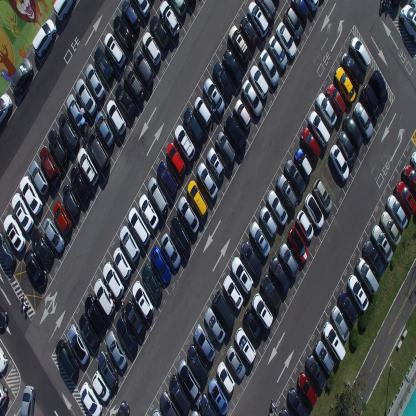car: (86, 127, 110, 173), (55, 338, 79, 380), (177, 358, 201, 400), (322, 320, 346, 362), (31, 18, 56, 58), (76, 146, 100, 187), (19, 175, 43, 216), (24, 248, 48, 289), (355, 255, 379, 296), (169, 214, 192, 256), (67, 323, 90, 365), (3, 212, 26, 254), (128, 206, 151, 247), (11, 192, 34, 233), (30, 227, 54, 266), (116, 314, 138, 356), (228, 24, 250, 66), (212, 290, 235, 330), (231, 255, 254, 295), (193, 322, 216, 362), (158, 0, 181, 40), (224, 114, 246, 155), (177, 195, 199, 236), (132, 279, 154, 320), (84, 293, 106, 334), (106, 329, 128, 370), (212, 59, 234, 100), (10, 57, 34, 94), (261, 272, 282, 314), (94, 277, 116, 317), (78, 312, 100, 352), (252, 291, 274, 331), (75, 77, 97, 117), (102, 260, 124, 300), (97, 348, 119, 388), (371, 222, 393, 262), (41, 217, 66, 252), (240, 240, 263, 278), (221, 48, 244, 86), (187, 343, 208, 384), (169, 373, 190, 414), (150, 244, 172, 283), (38, 145, 60, 184), (196, 161, 218, 200), (112, 13, 134, 52), (203, 76, 225, 115), (276, 173, 298, 212), (394, 178, 416, 217), (364, 238, 386, 277), (103, 31, 126, 68), (187, 180, 208, 220), (147, 176, 168, 216), (276, 20, 297, 60), (353, 100, 374, 140), (249, 222, 271, 260), (124, 299, 146, 337), (47, 128, 69, 166), (182, 106, 204, 144), (284, 158, 306, 196), (308, 110, 330, 148), (334, 66, 356, 104), (173, 124, 196, 160), (123, 63, 144, 102), (204, 306, 226, 343), (246, 1, 268, 38), (266, 189, 288, 226), (380, 210, 402, 247), (79, 380, 102, 415), (85, 62, 105, 102), (242, 79, 262, 119), (208, 376, 228, 416), (106, 97, 127, 135), (160, 232, 181, 270), (142, 263, 163, 301), (69, 166, 90, 204), (29, 158, 50, 196), (94, 110, 115, 148), (119, 225, 140, 263), (235, 326, 256, 364), (133, 50, 154, 88), (348, 273, 369, 311), (316, 92, 338, 128), (341, 51, 363, 87), (138, 192, 158, 231), (270, 255, 290, 294), (259, 48, 279, 87), (329, 143, 349, 182), (156, 160, 177, 197), (141, 30, 162, 67), (149, 15, 170, 52), (165, 141, 186, 178), (267, 34, 288, 71), (58, 111, 78, 149), (306, 353, 326, 391), (223, 274, 244, 310), (278, 242, 299, 278), (387, 193, 408, 229), (114, 84, 136, 118), (226, 344, 246, 381), (288, 226, 308, 263), (300, 126, 320, 163), (304, 192, 324, 229), (312, 178, 332, 215), (343, 113, 363, 150), (330, 304, 350, 341), (93, 46, 114, 81), (248, 64, 269, 99), (52, 200, 72, 236), (215, 130, 235, 166), (112, 246, 132, 282), (243, 308, 263, 344), (337, 130, 357, 166), (314, 340, 335, 374), (325, 83, 346, 117), (283, 6, 303, 41), (297, 371, 317, 406), (66, 93, 85, 129), (339, 290, 358, 326), (360, 84, 380, 118), (0, 228, 16, 270), (287, 386, 310, 415), (350, 36, 370, 69), (400, 3, 416, 44), (62, 182, 80, 218), (370, 69, 388, 105), (233, 98, 252, 132), (206, 147, 225, 181), (239, 16, 258, 50), (216, 361, 235, 395), (293, 147, 312, 181), (92, 370, 111, 403), (120, 0, 140, 31), (295, 209, 313, 243), (193, 95, 212, 127), (260, 206, 278, 238), (19, 385, 36, 415), (255, 0, 278, 22), (160, 390, 180, 415), (199, 392, 219, 416), (290, 0, 309, 25), (402, 163, 416, 195), (0, 93, 13, 127), (54, 0, 74, 22), (132, 0, 151, 19), (168, 0, 187, 18), (0, 343, 9, 376), (0, 380, 9, 408), (114, 400, 130, 415), (0, 304, 9, 329), (305, 0, 320, 12), (278, 406, 291, 416), (410, 149, 415, 172), (190, 405, 201, 415), (151, 408, 163, 416), (408, 0, 416, 9)
